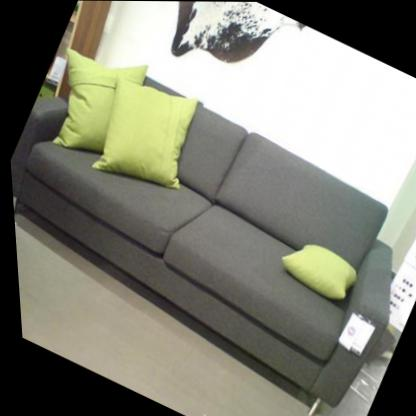Sofa: (2, 33, 416, 416)
